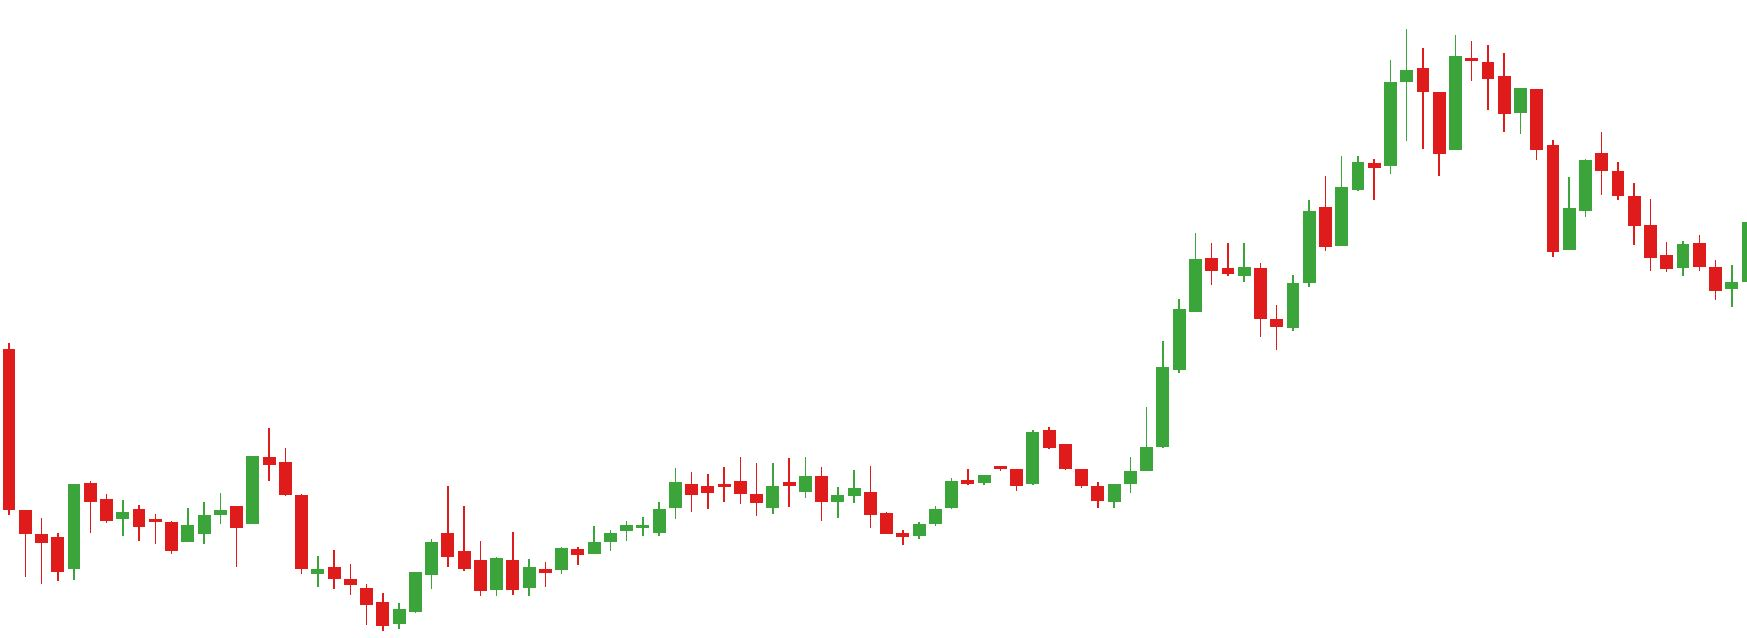buy: (1006, 452, 1138, 513)
